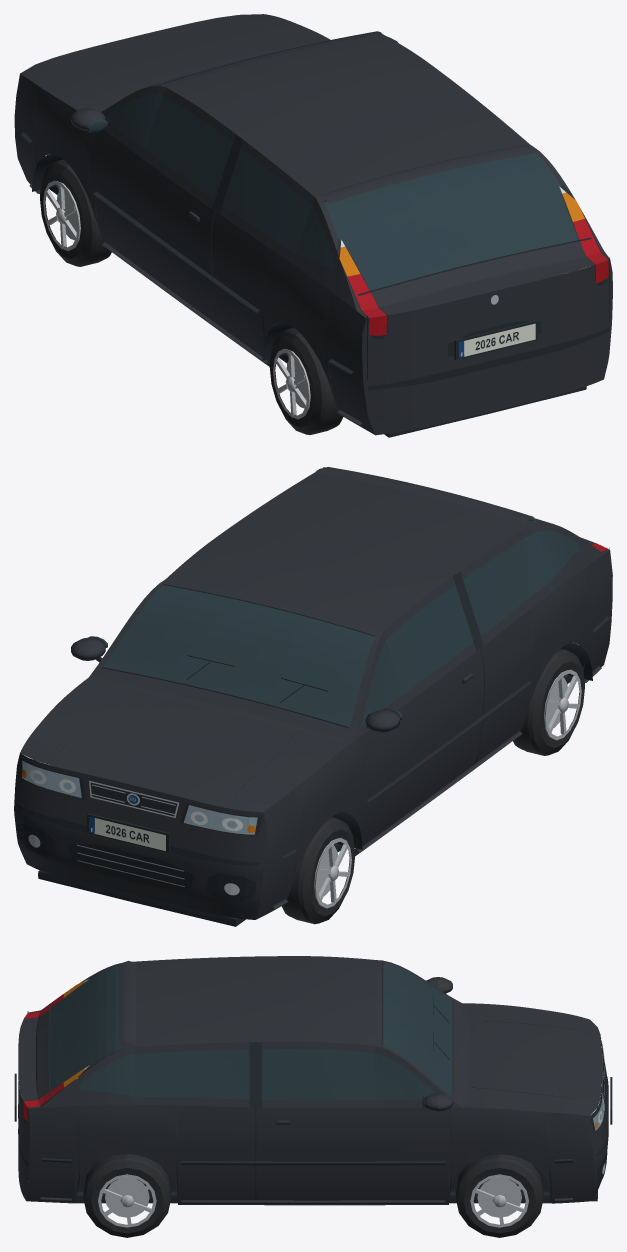
The model's file is Entrega_14_LOD1.glb.
The picture shows the model from 3 angles, top to bottom: view 1: azimuth 30°, elevation 25°; view 2: azimuth 150°, elevation 25°; view 3: azimuth 270°, elevation 25°; orthographic projection. The views are drawn at different scales.
Visible parts, largest first — view 1: Body, Glass, Wheel_RL, Wheel_FL, BrakeLights, Plates; view 2: Body, Glass, Wheel_FL, Wheel_RL, Headlights, Plates; view 3: Body, Glass, Wheel_RR, Wheel_FR, BrakeLights.
Part boxes in pixels (x1,y1,x2,y2): Body: (14, 14, 612, 437); Glass: (86, 32, 578, 290); Wheel_RL: (269, 327, 343, 434); Wheel_FL: (40, 159, 111, 266); BrakeLights: (347, 218, 608, 318); Plates: (459, 323, 535, 357); Body: (14, 467, 612, 926); Glass: (88, 517, 579, 727); Wheel_FL: (281, 817, 355, 924); Wheel_RL: (513, 648, 584, 755); Headlights: (22, 760, 257, 895); Plates: (89, 816, 165, 851); Body: (14, 956, 612, 1205); Glass: (49, 962, 452, 1108); Wheel_RR: (83, 1154, 171, 1237); Wheel_FR: (455, 1154, 543, 1237); BrakeLights: (23, 994, 64, 1107).
Bounding box in the file's own units: 2.11 × 1.47 × 4.18.
15 materials, 1 textured.
